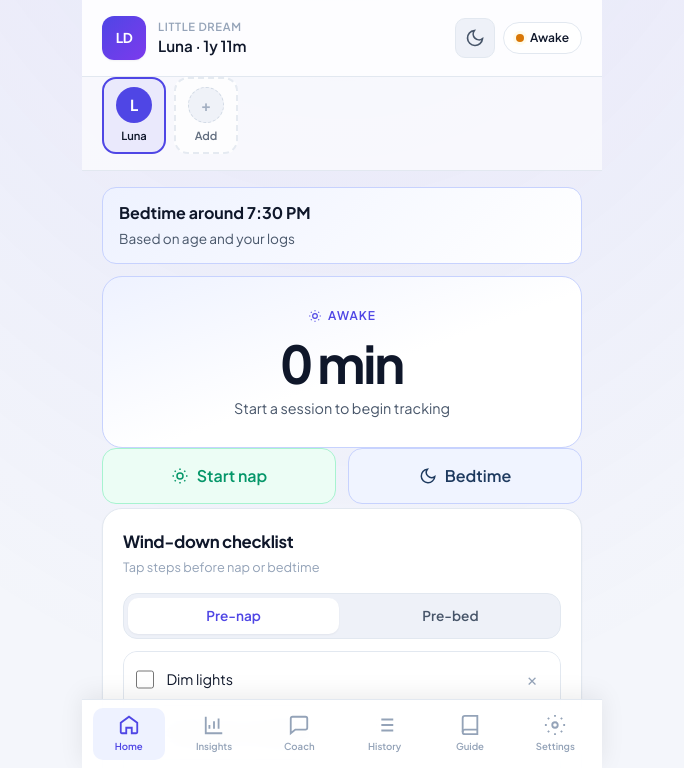
Scenario: App › navigates to insights
Click the button "Insights" at (214, 734), box [178, 708, 250, 760]
(page scrolled)
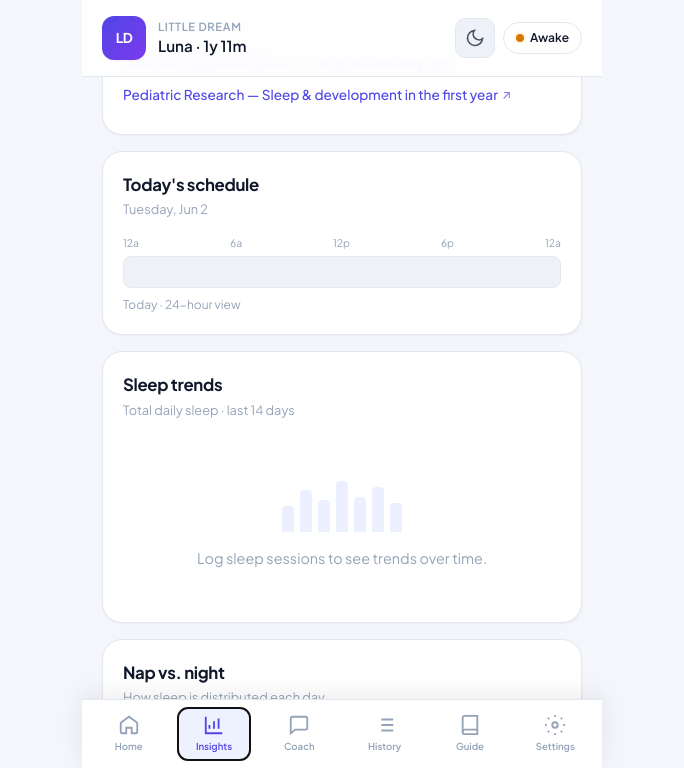
Result: the heading "Sleep trends" is shown at [123, 374, 222, 395]
